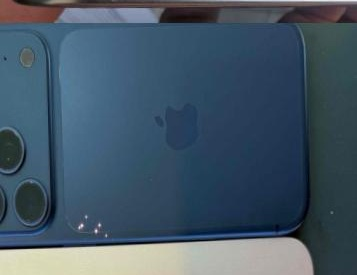scratch: (69, 185, 129, 262), (95, 0, 128, 10)
